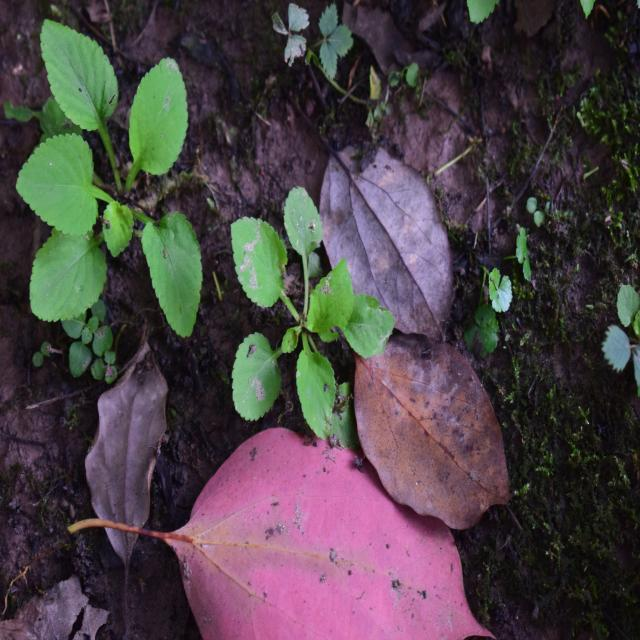Viola: (11, 11, 224, 318), (212, 190, 412, 452)
